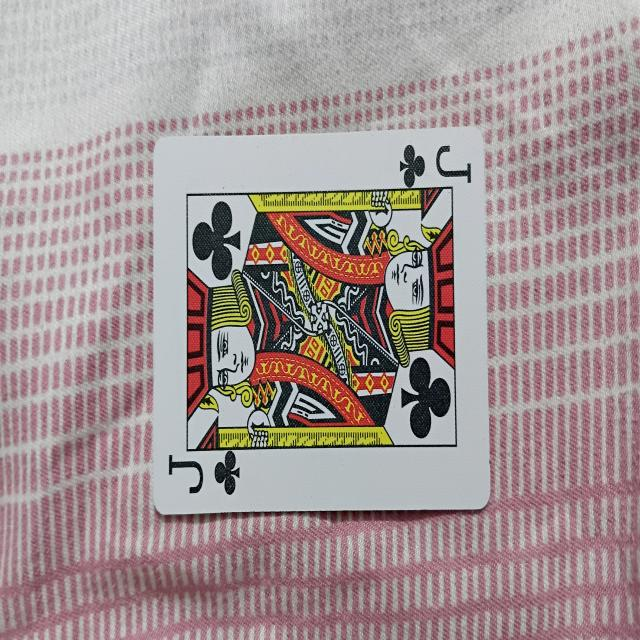JC: (151, 126, 486, 525)
